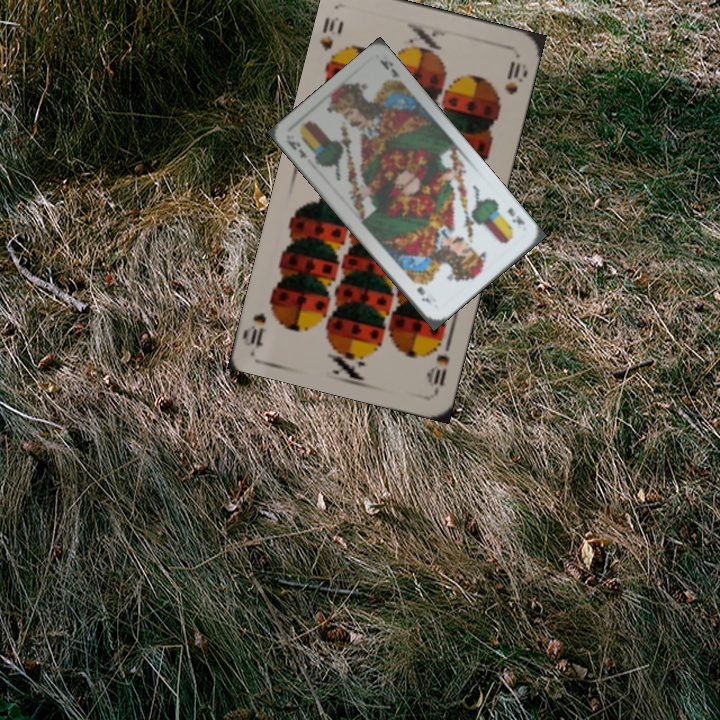EK: (282, 135, 310, 161), (504, 203, 527, 227)
S10: (316, 12, 346, 67), (423, 350, 452, 394)
